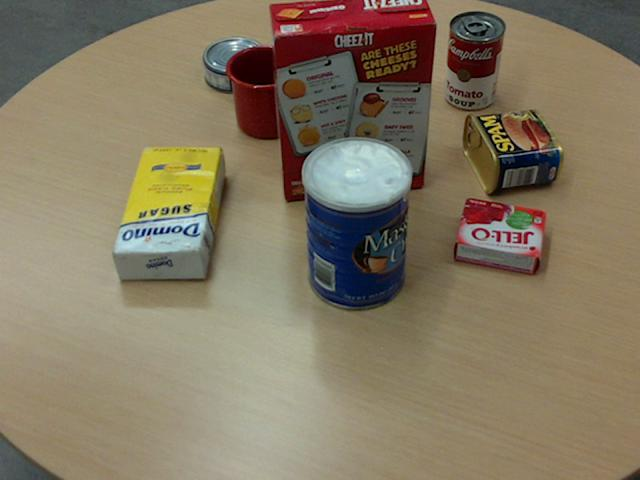cracker_box: (268, 0, 436, 198)
gelatin_box: (453, 196, 547, 272)
large_marker: (399, 41, 420, 132)
master_chef_can: (301, 136, 411, 310)
mug: (225, 44, 313, 138)
mustard_bottle: (274, 9, 412, 91)
potted_meat_can: (461, 109, 562, 193)
sugar_box: (110, 146, 223, 279)
tomato_soup_can: (444, 11, 505, 109)
tuna_fish_can: (202, 36, 267, 92)
